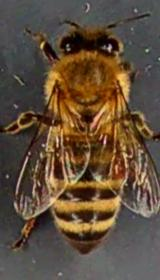varroa_mite: (103, 148, 130, 179)
